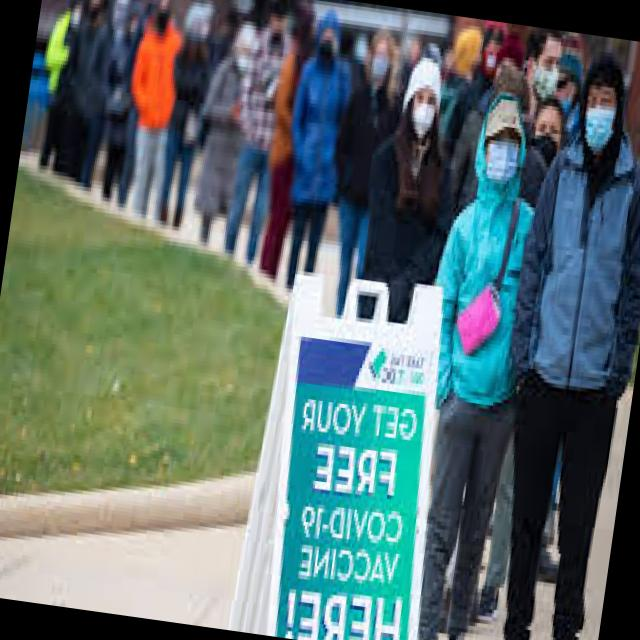Jacket: (504, 126, 640, 414), (413, 182, 550, 448), (342, 136, 468, 364), (175, 62, 259, 234), (278, 46, 356, 226), (328, 78, 394, 224), (120, 17, 188, 146)
